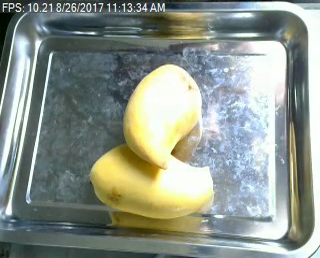Mango: (86, 142, 216, 221), (122, 62, 201, 173)
